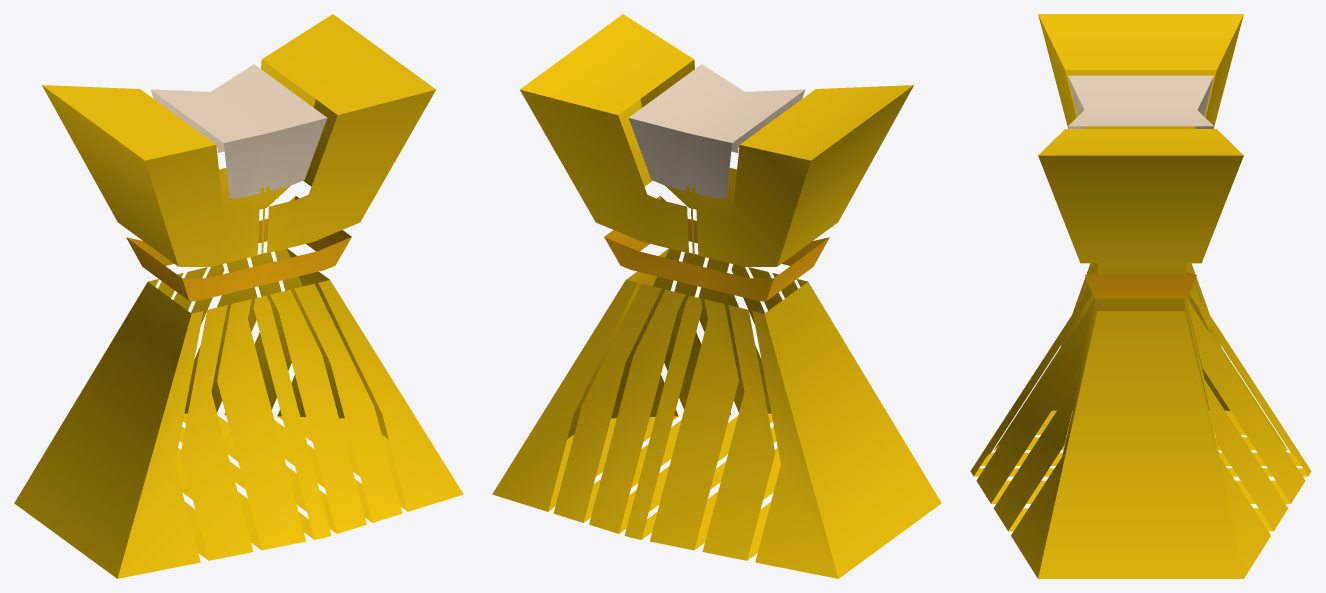
The model's file is C_GH_Body_F1.FBX.
The picture shows the model from 3 angles, left to right: view 1: azimuth 30°, elevation 25°; view 2: azimuth 150°, elevation 25°; view 3: azimuth 270°, elevation 25°; orthographic projection.
Visible parts, largest first — view 1: Body; view 2: Body; view 3: Body.
Boxes of the visible parts, x1=… form: Body: x1=14, y1=14, x2=463, y2=578; Body: x1=492, y1=14, x2=941, y2=578; Body: x1=970, y1=14, x2=1311, y2=578.
Bounding box in the file's own units: 16.08 × 18.26 × 13.77.
Materials: 1 (1 with a texture image).
